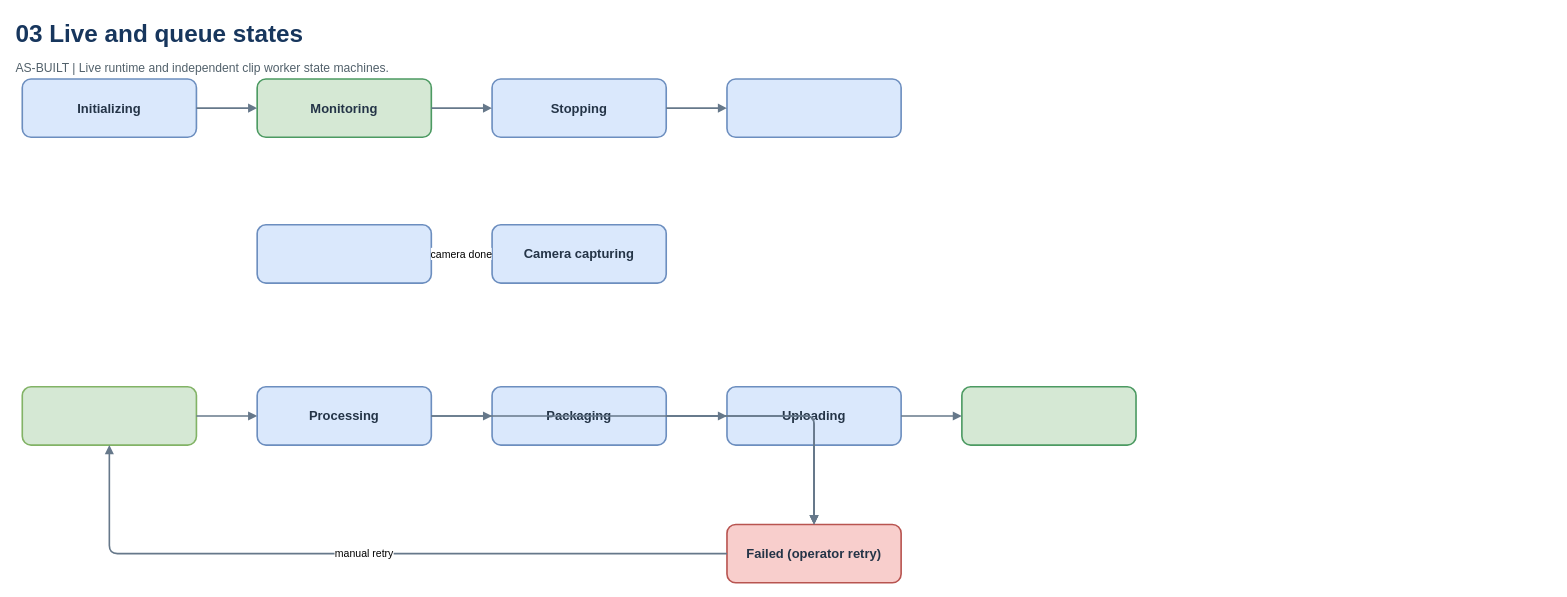
Some shapes in this 1567 by 597 pixel diagram are drawn without their labels. The shapes that lost their labels are listed below. From the top down, each one's box as (x1, y1, x2, y2) in pixels, then its label:
(726, 78, 902, 138): Stopped
(256, 224, 432, 284): Camera idle
(21, 386, 197, 446): Job queued
(961, 386, 1136, 446): Completed
